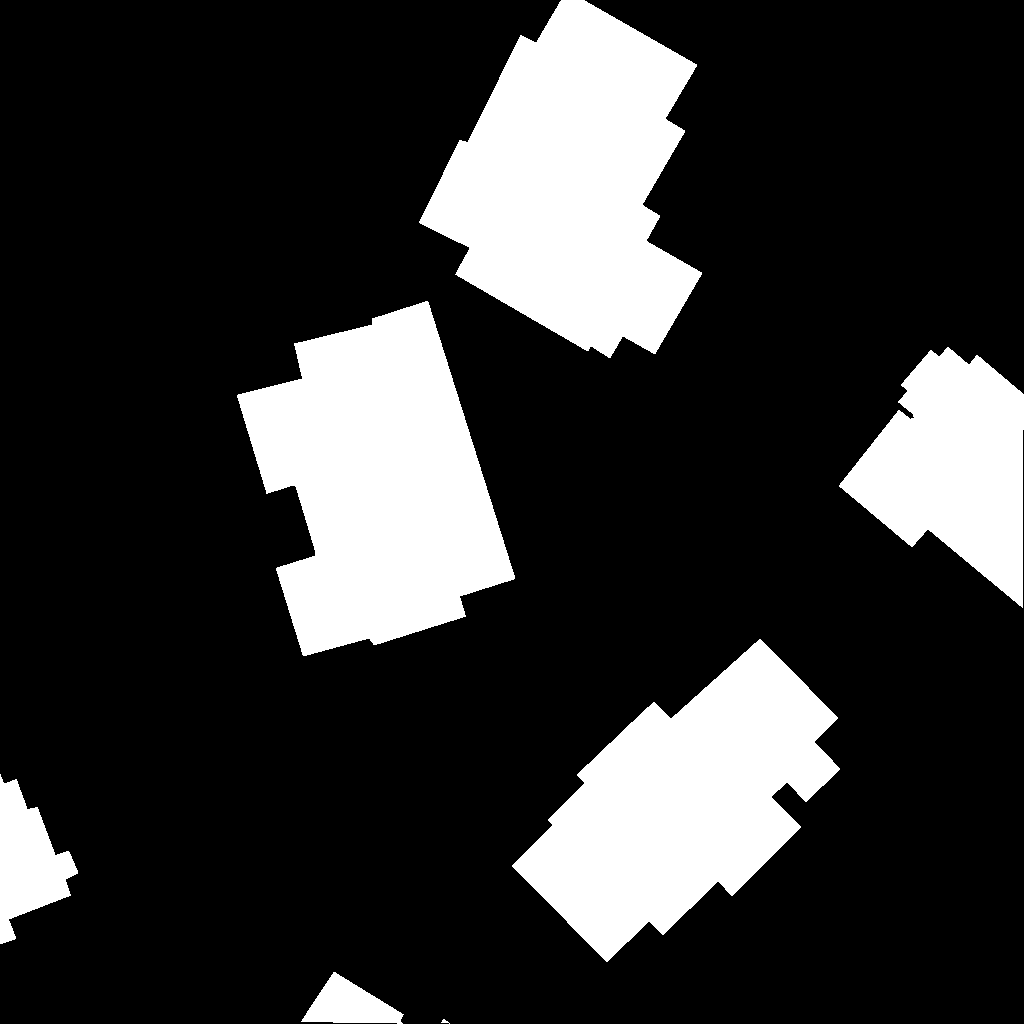building: (512, 639, 841, 963), (419, 0, 703, 359), (237, 301, 516, 657), (839, 347, 1024, 609), (0, 773, 79, 945), (301, 972, 451, 1024)
